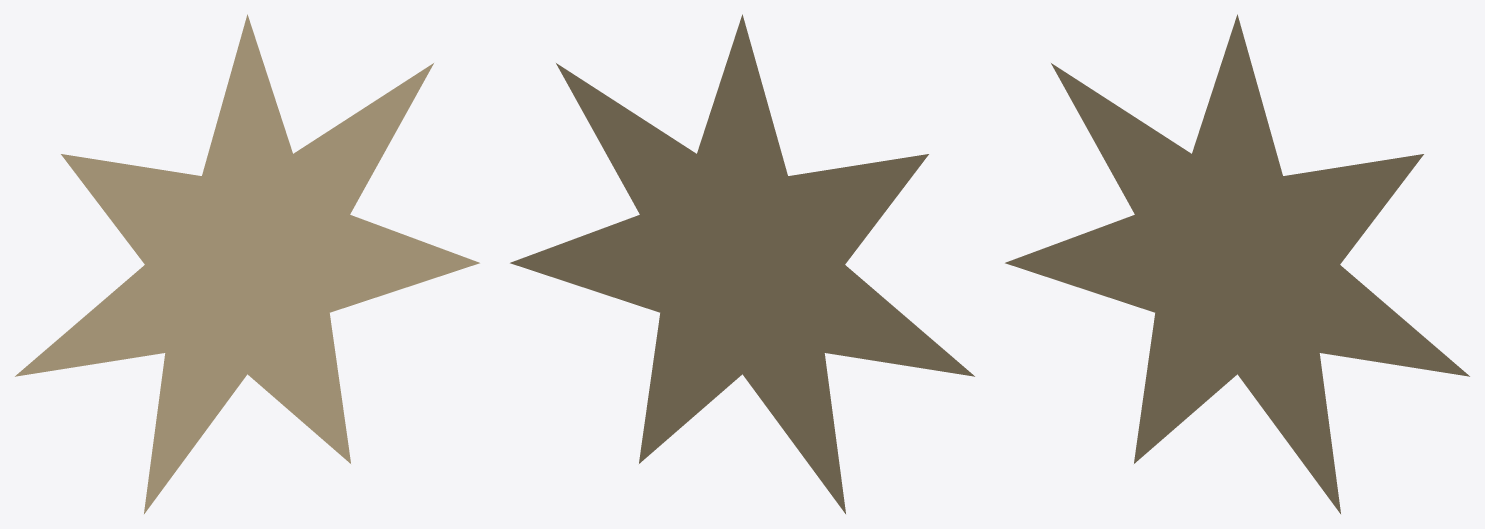
Rendered from advent_star.glb.
3 renders of one model, left to right at view 1: azimuth 30°, elevation 25°; view 2: azimuth 150°, elevation 25°; view 3: azimuth 330°, elevation 25°, orthographic.
Visible parts, largest first — view 1: advent_star; view 2: advent_star; view 3: advent_star.
Boxes of the visible parts, x1,y1,x2,y2 form: advent_star: [15, 14, 479, 513]; advent_star: [510, 14, 974, 513]; advent_star: [1005, 14, 1469, 513].
Bounding box in the file's own units: 0.9749 × 0.9505 × 0.
